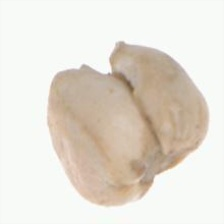L3: (49, 42, 124, 86)
L4: (46, 40, 209, 206)
